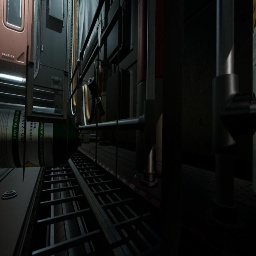0: (0, 102, 100, 169), (252, 0, 256, 195)
NitrogenTank ,: (135, 0, 184, 178), (136, 0, 140, 152)
